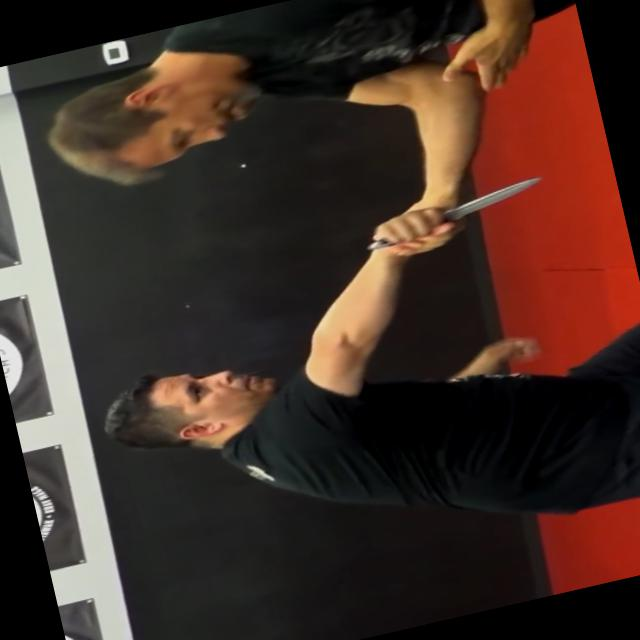knife: (356, 168, 560, 259)
